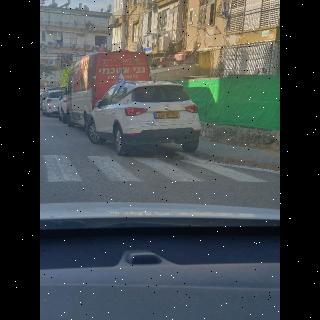LicensePlate: (157, 112, 179, 118)
